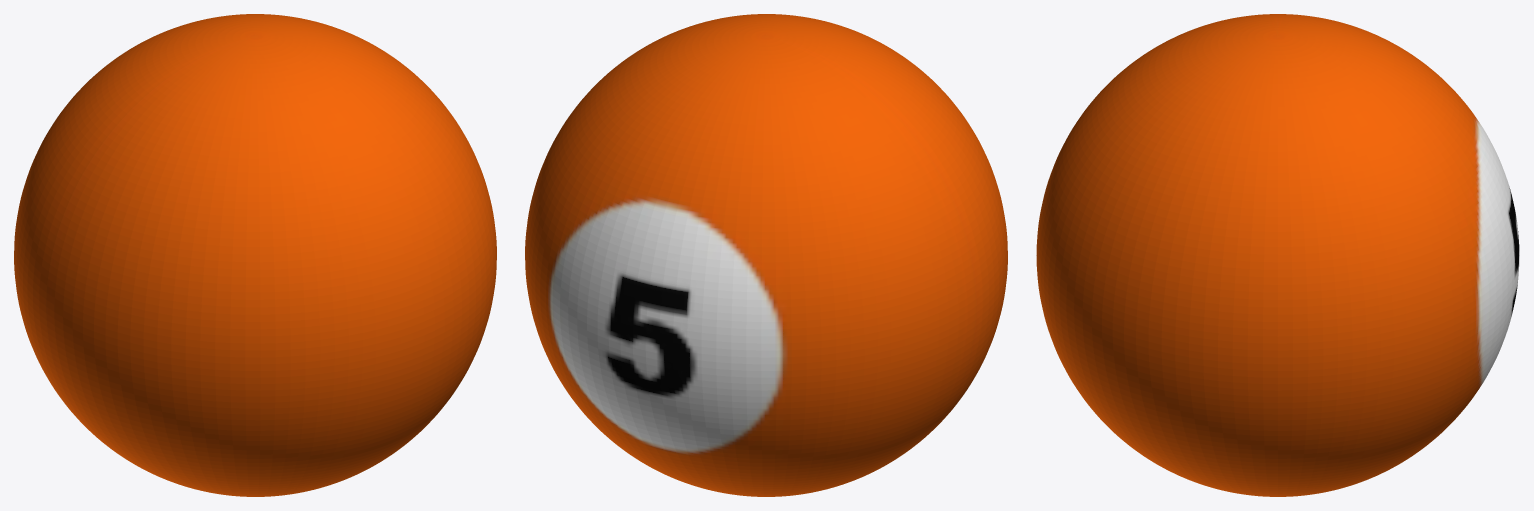
File: FiveBall.obj
3 views of the same model, side by side, from view 1: azimuth 30°, elevation 25°; view 2: azimuth 150°, elevation 25°; view 3: azimuth 270°, elevation 25° (orthographic).
Visible parts, largest first — view 1: Sphere; view 2: Sphere; view 3: Sphere.
Boxes of the visible parts, x1=… form: Sphere: x1=14, y1=14, x2=496, y2=496; Sphere: x1=525, y1=14, x2=1007, y2=496; Sphere: x1=1036, y1=14, x2=1519, y2=496.
Size of the model in its own units: 2 by 2 by 2.
